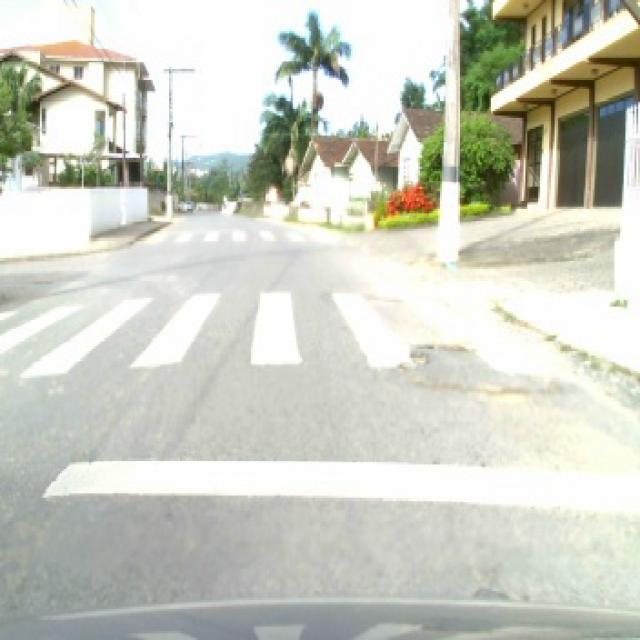Poth-hole: (391, 338, 560, 400)
